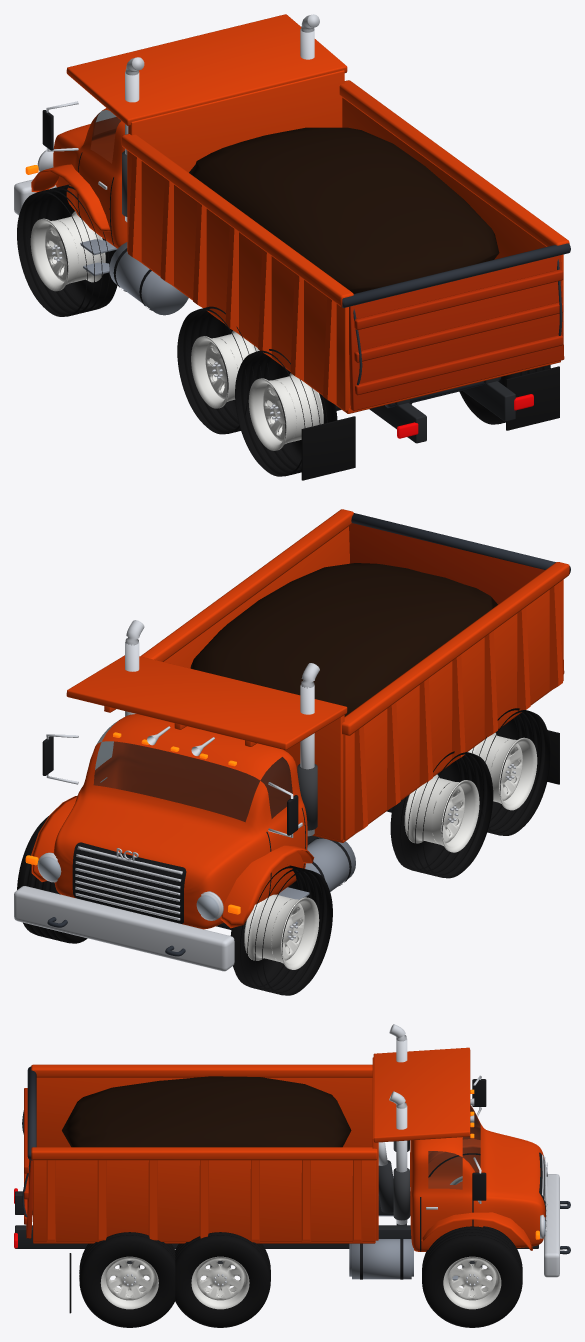
The model's file is DumpTruck.fbx.
The picture shows the model from 3 angles, top to bottom: view 1: azimuth 30°, elevation 25°; view 2: azimuth 150°, elevation 25°; view 3: azimuth 270°, elevation 25°; orthographic projection. The views are drawn at different scales.
Parts seen in each view (by area): view 1: DumpTruck_Body, DumpTruck_Trim, DumpTruck_Wheel1, DumpTruck_Wheel3, DumpTruck_Wheel5, DumpTruck_Glass, DumpTruck_Wheel4, DumpTruck_Lights; view 2: DumpTruck_Body, DumpTruck_Trim, DumpTruck_Wheel5, DumpTruck_Wheel1, DumpTruck_Glass, DumpTruck_Wheel3, DumpTruck_Wheel2, DumpTruck_Lights; view 3: DumpTruck_Body, DumpTruck_Trim, DumpTruck_Wheel2, DumpTruck_Wheel4, DumpTruck_Wheel6, DumpTruck_Glass.
Part boxes in pixels (bbox=[...]): DumpTruck_Body: bbox=[31, 14, 569, 413]; DumpTruck_Trim: bbox=[14, 14, 570, 480]; DumpTruck_Wheel1: bbox=[17, 184, 117, 316]; DumpTruck_Wheel3: bbox=[235, 349, 337, 476]; DumpTruck_Wheel5: bbox=[177, 306, 279, 434]; DumpTruck_Glass: bbox=[90, 110, 120, 163]; DumpTruck_Wheel4: bbox=[459, 365, 550, 424]; DumpTruck_Lights: bbox=[25, 165, 533, 438]; DumpTruck_Body: bbox=[31, 509, 569, 929]; DumpTruck_Trim: bbox=[14, 513, 570, 971]; DumpTruck_Wheel5: bbox=[390, 751, 493, 878]; DumpTruck_Wheel1: bbox=[230, 865, 332, 995]; DumpTruck_Glass: bbox=[94, 720, 292, 821]; DumpTruck_Wheel3: bbox=[448, 708, 550, 835]; DumpTruck_Wheel2: bbox=[17, 816, 87, 943]; DumpTruck_Lights: bbox=[25, 732, 240, 919]; DumpTruck_Body: bbox=[24, 1047, 545, 1251]; DumpTruck_Trim: bbox=[15, 1024, 570, 1313]; DumpTruck_Wheel2: bbox=[422, 1226, 522, 1327]; DumpTruck_Wheel4: bbox=[79, 1232, 175, 1327]; DumpTruck_Wheel6: bbox=[175, 1232, 270, 1327]; DumpTruck_Glass: bbox=[428, 1105, 480, 1189].
Size of the model in its own units: 11.72 by 12.17 by 27.65.
